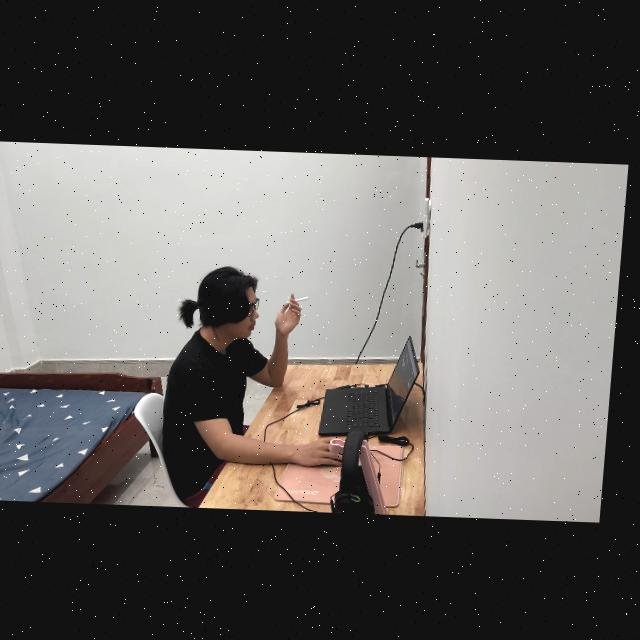cigarette: (291, 294, 314, 303)
